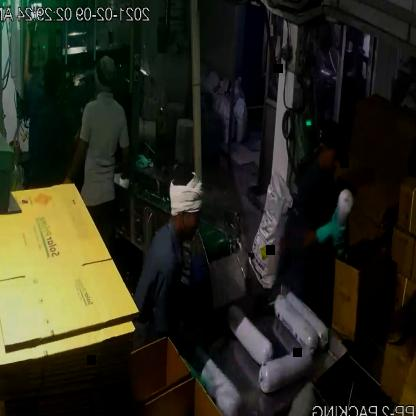glove: (305, 199, 349, 252)
no_glove: (62, 125, 93, 185), (118, 138, 136, 190)
